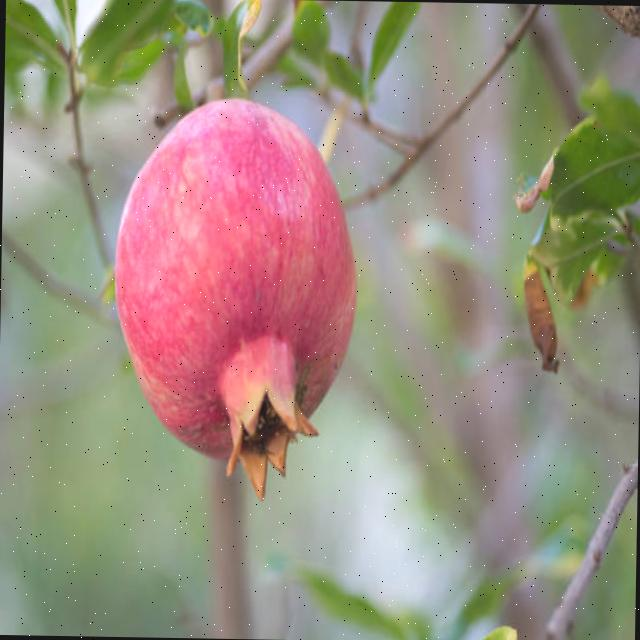Ripe: (109, 92, 364, 504)
